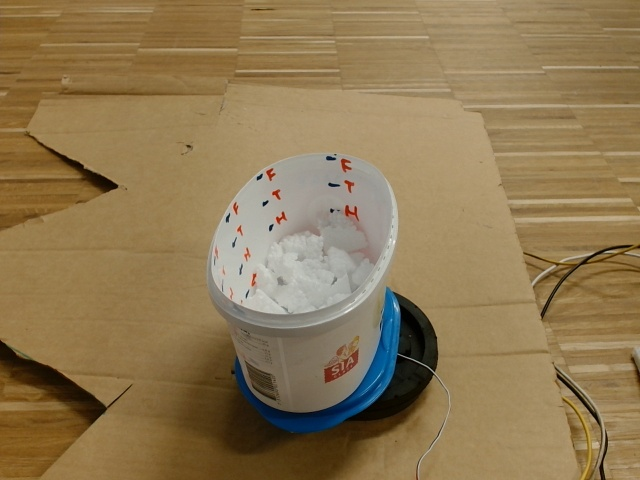Big_quarter: (203, 147, 400, 332)
